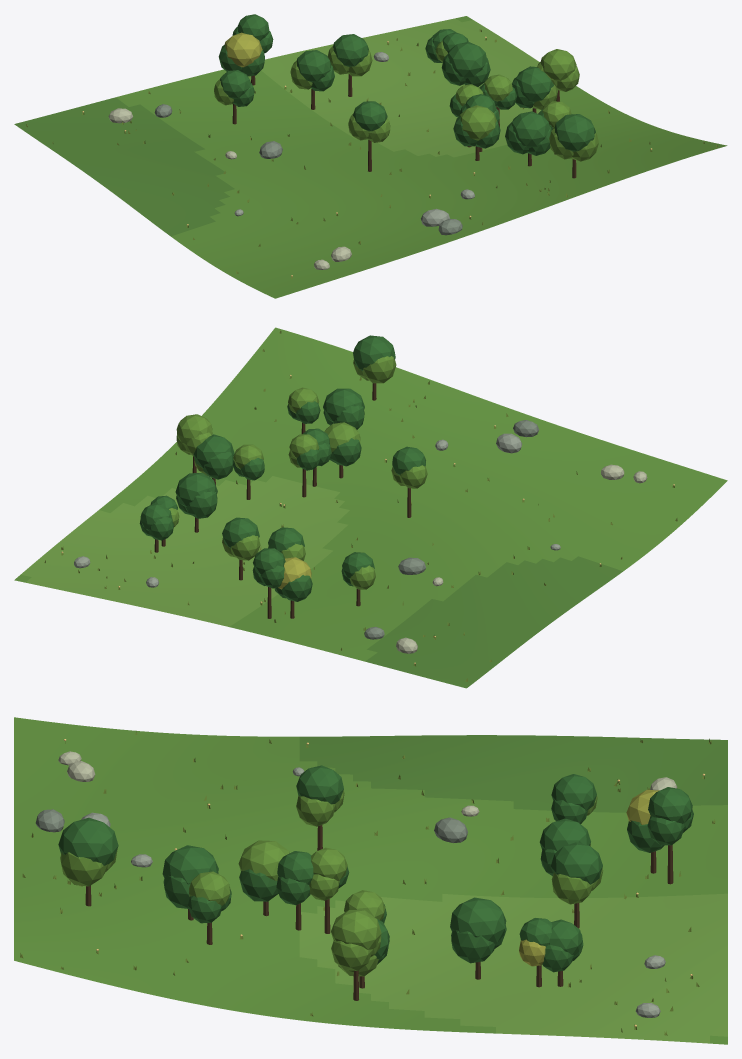
The model's file is Chunk_X-3_Y0_Z3.fbx.
3 views of the same model, one above another, from view 1: azimuth 30°, elevation 25°; view 2: azimuth 150°, elevation 25°; view 3: azimuth 270°, elevation 25° (orthographic). The views are drawn at different scales.
Parts seen in each view (by area): view 1: Terrain.006, Canopies.006, Rocks.006, Trunks.006, GroundCover.006; view 2: Terrain.006, Canopies.006, Rocks.006, Trunks.006, GroundCover.006; view 3: Terrain.006, Canopies.006, Rocks.006, Trunks.006, GroundCover.006.
Boxes of the visible parts, <box> form: Terrain.006: <box>14,16,727,298</box>; Canopies.006: <box>214,14,598,161</box>; Rocks.006: <box>108,52,474,269</box>; Trunks.006: <box>232,74,576,178</box>; GroundCover.006: <box>26,29,717,278</box>; Terrain.006: <box>14,327,727,688</box>; Canopies.006: <box>139,335,427,601</box>; Rocks.006: <box>74,420,647,653</box>; Trunks.006: <box>154,383,411,618</box>; GroundCover.006: <box>44,330,677,681</box>; Terrain.006: <box>14,717,727,1044</box>; Canopies.006: <box>58,765,693,976</box>; Rocks.006: <box>35,751,677,1017</box>; Trunks.006: <box>85,825,673,1000</box>; GroundCover.006: <box>20,730,715,1035</box>.
Size of the model in its own units: 100 by 21.79 by 100.
